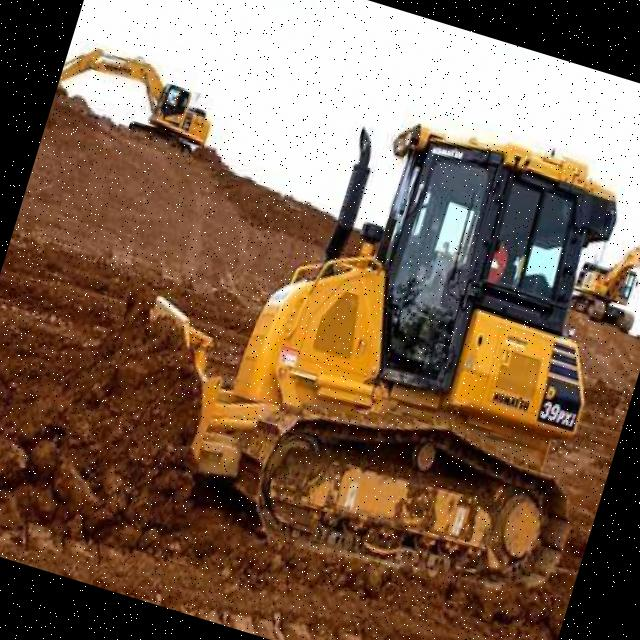Bulldozer: (79, 49, 640, 634)
